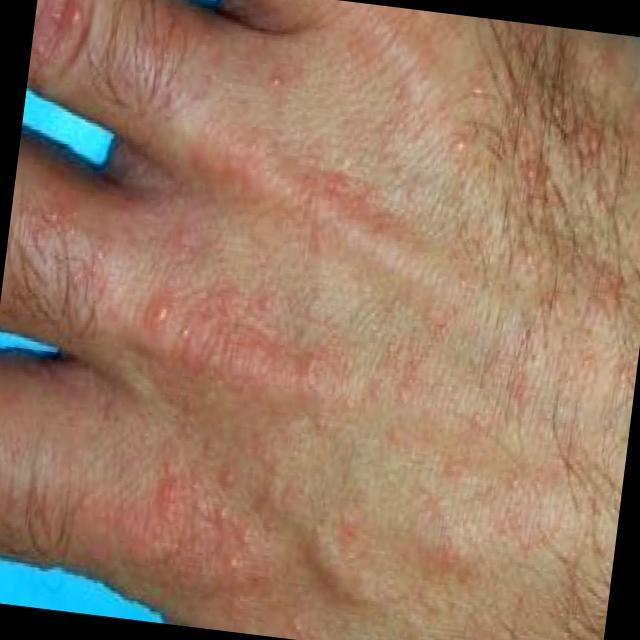Eczema: (34, 0, 536, 632)
